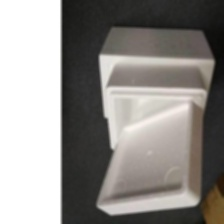foam_box: (92, 95, 206, 219), (95, 23, 218, 122), (102, 60, 210, 156)
